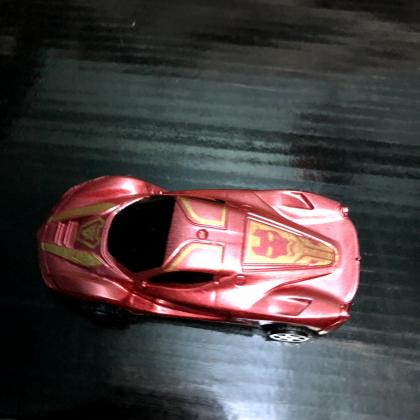Car: (35, 177, 362, 342)
